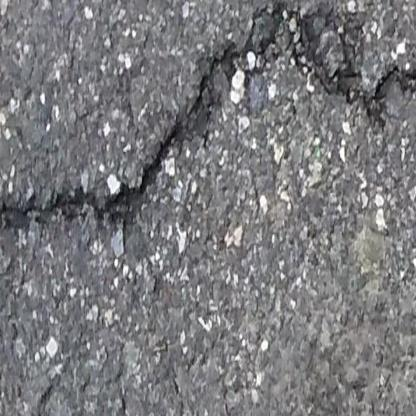Cracks: (0, 2, 416, 236)
